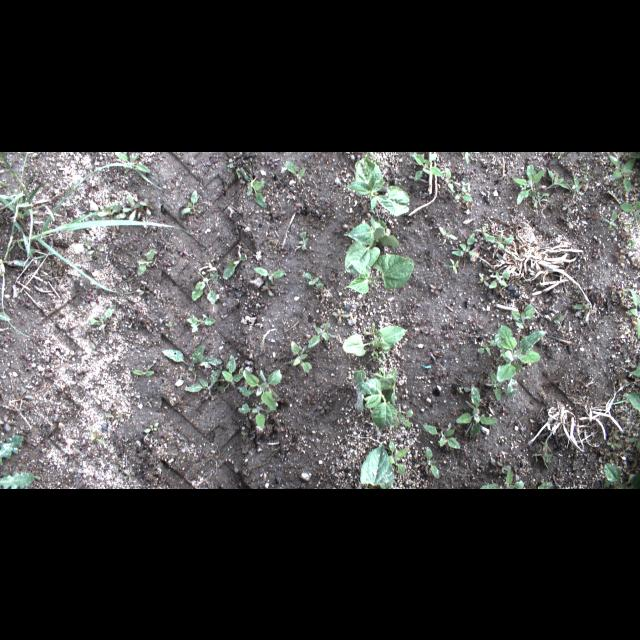crop: (345, 154, 411, 216), (345, 212, 401, 274), (353, 366, 399, 430), (344, 252, 414, 294), (358, 439, 408, 488), (342, 324, 408, 356)
weed: (1, 152, 176, 298), (493, 324, 551, 384), (235, 362, 282, 432), (453, 380, 503, 442), (184, 350, 250, 390), (228, 164, 272, 214), (163, 343, 223, 373), (510, 161, 548, 207), (97, 192, 161, 218), (190, 264, 222, 306), (605, 152, 637, 194), (489, 368, 529, 400), (480, 464, 528, 488), (423, 424, 463, 450), (251, 263, 285, 293), (449, 232, 485, 258), (219, 251, 249, 281), (288, 338, 312, 374), (602, 462, 638, 486), (483, 232, 521, 254), (84, 306, 116, 332), (478, 266, 512, 290), (411, 154, 439, 182), (0, 434, 26, 464), (187, 311, 219, 335), (178, 188, 202, 218), (510, 304, 540, 328), (115, 458, 142, 484), (596, 432, 622, 458), (0, 469, 38, 486), (136, 247, 158, 276), (284, 158, 308, 184), (125, 360, 156, 380), (424, 445, 442, 479), (488, 453, 518, 473), (310, 323, 334, 347), (616, 201, 636, 229), (616, 286, 634, 316), (452, 182, 474, 206), (601, 209, 623, 233), (298, 228, 318, 254), (301, 269, 329, 287), (538, 467, 562, 487), (536, 442, 554, 468), (546, 172, 572, 190), (330, 308, 352, 328), (440, 256, 460, 278), (437, 222, 459, 242), (472, 338, 494, 358), (572, 171, 590, 195), (622, 390, 638, 414), (2, 412, 22, 431), (431, 166, 452, 184), (362, 321, 380, 341), (108, 152, 152, 160), (86, 430, 108, 446), (80, 238, 100, 255), (392, 410, 413, 426), (101, 404, 121, 420), (14, 386, 36, 399), (140, 421, 160, 435), (572, 300, 588, 316), (558, 200, 576, 214), (370, 348, 388, 362), (20, 294, 32, 314), (0, 308, 14, 324), (553, 311, 565, 329), (142, 395, 156, 409), (628, 366, 638, 382), (462, 152, 473, 166), (166, 254, 174, 272)
